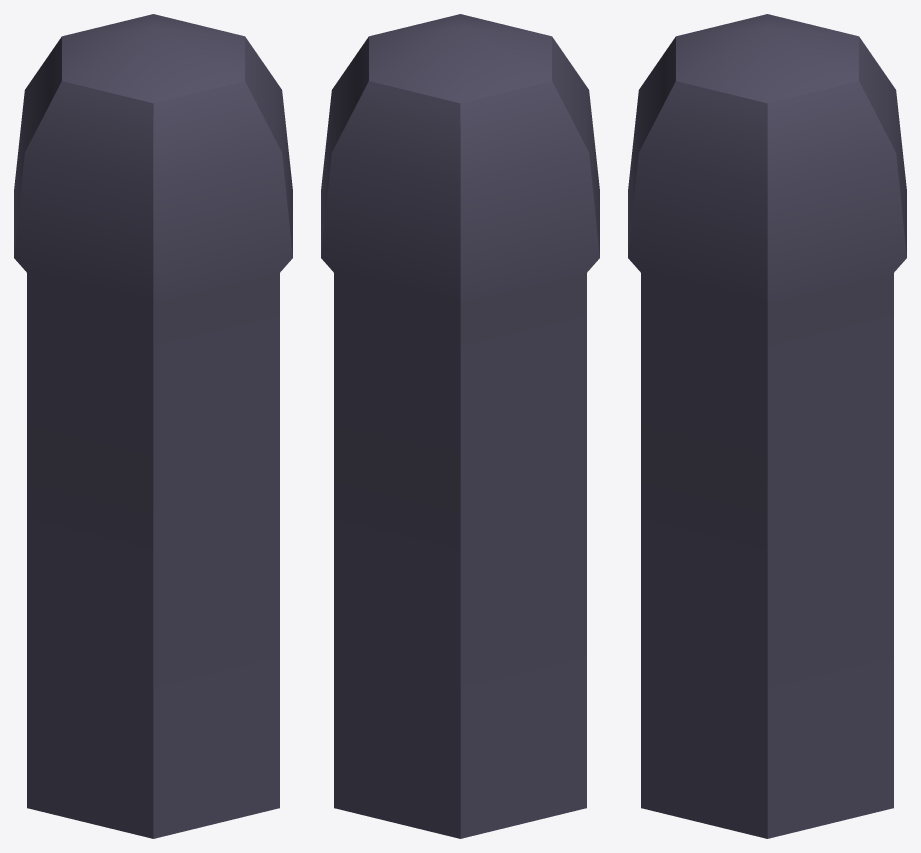
Rendered from Silo.fbx.
3 views of the same model, side by side, from view 1: azimuth 30°, elevation 25°; view 2: azimuth 150°, elevation 25°; view 3: azimuth 270°, elevation 25° (orthographic).
Visible parts, largest first — view 1: pCylinder80; view 2: pCylinder80; view 3: pCylinder80.
Part boxes in pixels (bbox=[...]): pCylinder80: bbox=[14, 14, 292, 838]; pCylinder80: bbox=[321, 14, 599, 838]; pCylinder80: bbox=[628, 14, 906, 838].
Bounding box in the file's own units: 1681 × 4316 × 1456.
